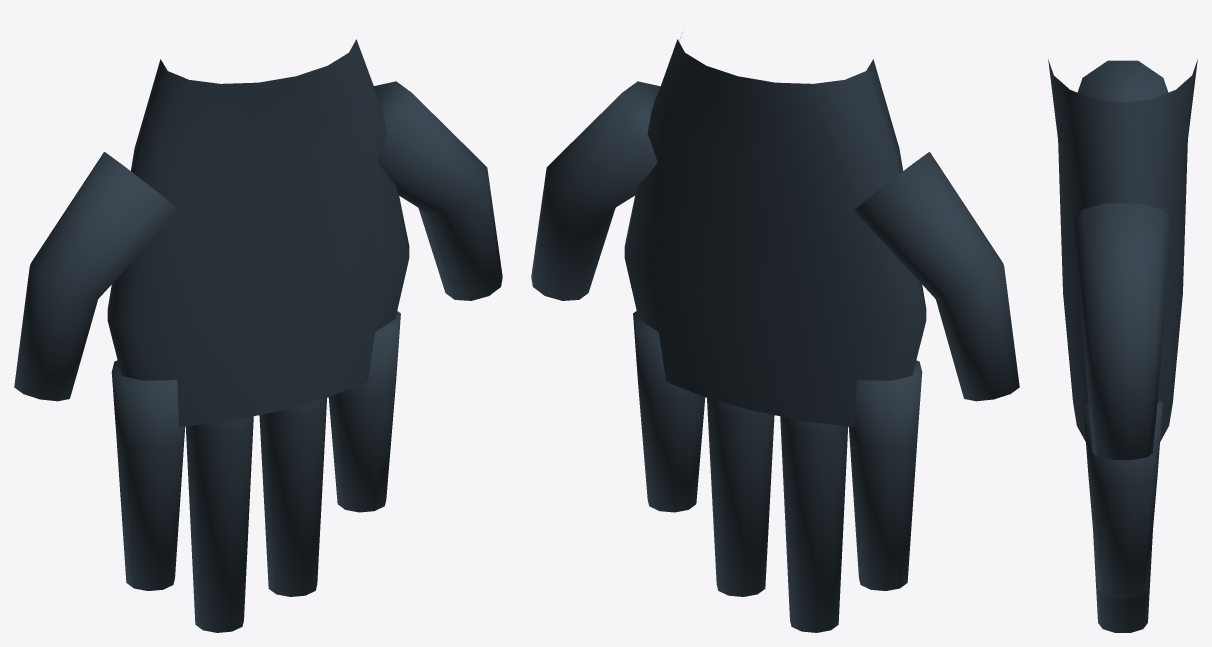
File: open_hands.glb
3 renders of one model, left to right at view 1: azimuth 30°, elevation 25°; view 2: azimuth 150°, elevation 25°; view 3: azimuth 270°, elevation 25°, orthographic.
Visible parts, largest first — view 1: open_hand_R, open_hand_L; view 2: open_hand_R, open_hand_L; view 3: open_hand_R, open_hand_L.
Boxes of the visible parts, box(x1,y1,x2,y2) form: open_hand_R: box(14, 39, 409, 632); open_hand_L: box(374, 81, 502, 300); open_hand_R: box(624, 32, 1019, 632); open_hand_L: box(531, 81, 660, 300); open_hand_R: box(1048, 60, 1197, 632); open_hand_L: box(1073, 203, 1172, 459).
Bounding box in the file's own units: 0.1112 × 0.125 × 0.03.
